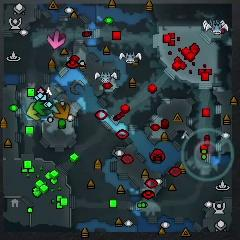x1: (45, 29, 66, 50)
x2: (26, 101, 40, 120)
x3: (51, 97, 60, 115)
x4: (35, 100, 48, 116)
x5: (53, 103, 70, 120)
